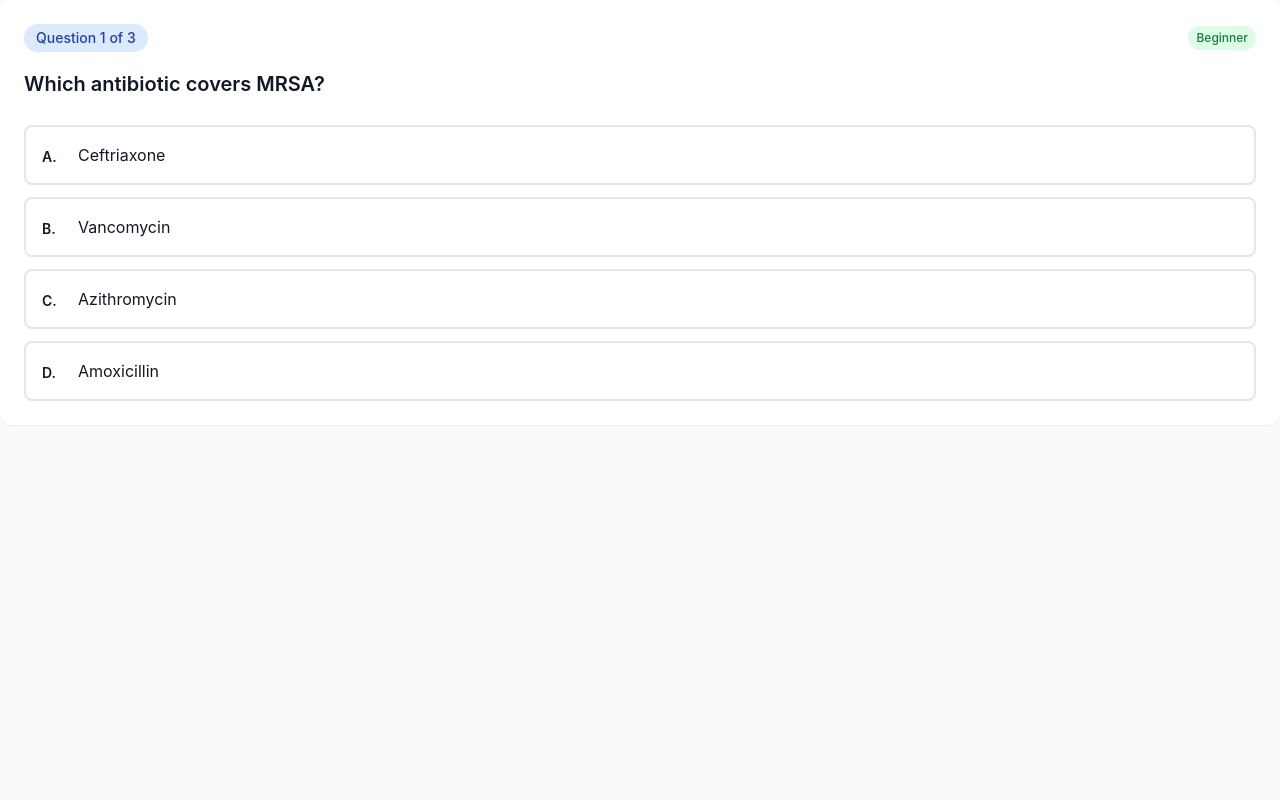
QuizSession › question flow › shows explanation after selecting an answer
This screenshot has width=1280, height=800.
// Select correct answer (Vancomycin - index 1)
Click the button with test id "option-1" at (124, 226), box [24, 196, 1256, 256]
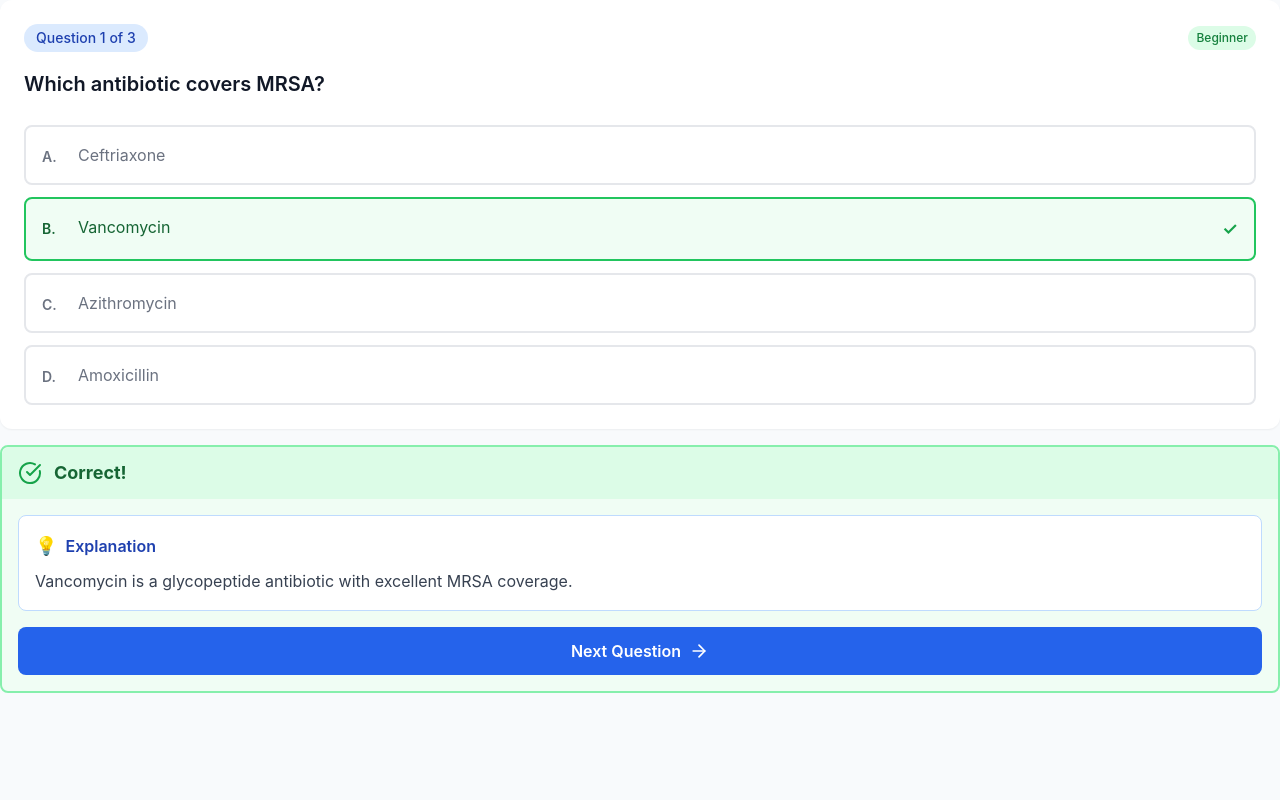
Check: the element with test id "quiz-explanation" is shown, box [0, 444, 1279, 692]
Check: the text "Correct!" is shown, box [54, 458, 127, 486]
